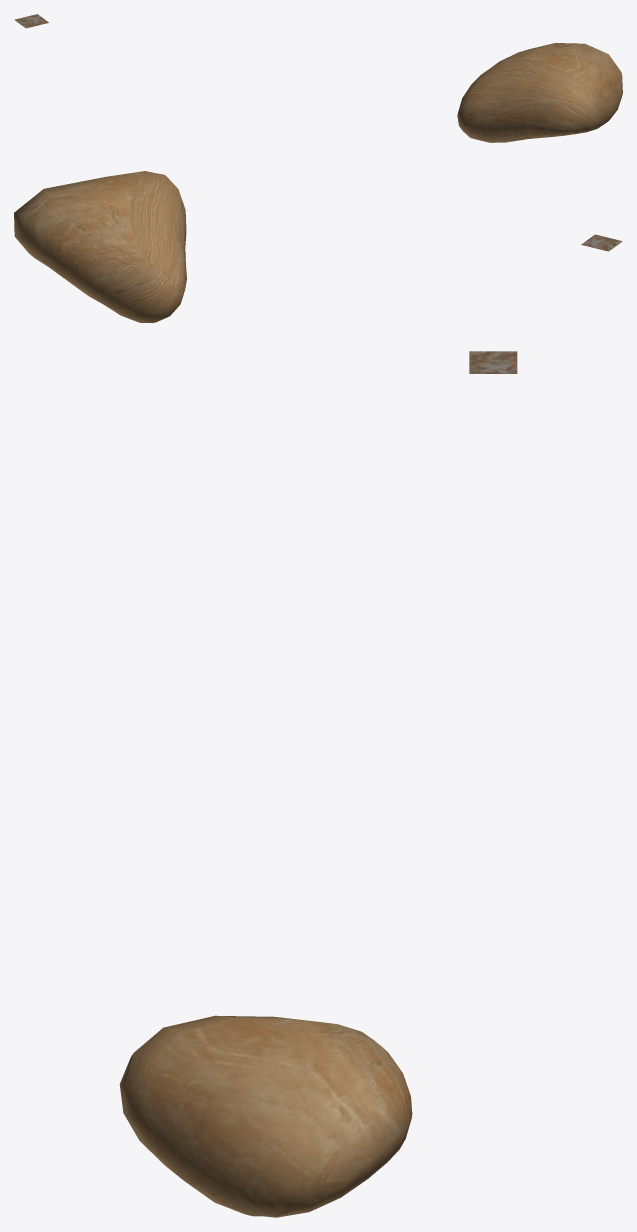
File: rock_2.obj
3 renders of one model, top to bottom at view 1: azimuth 30°, elevation 25°; view 2: azimuth 150°, elevation 25°; view 3: azimuth 270°, elevation 25°, orthographic. The views are drawn at different scales.
Visible parts, largest first — view 1: rock5, light_source_pillar1; view 2: rock5, light_source_pillar1; view 3: rock5.
Part boxes in pixels (left/top/right/bottom): rock5: left=457, top=43, right=622, bottom=142; light_source_pillar1: left=14, top=14, right=48, bottom=28; rock5: left=14, top=171, right=186, bottom=322; light_source_pillar1: left=581, top=234, right=622, bottom=251; rock5: left=119, top=1015, right=412, bottom=1217.
Size of the model in its own units: 35.61 by 11.99 by 11.11.
Materials: 2 (2 with a texture image).
